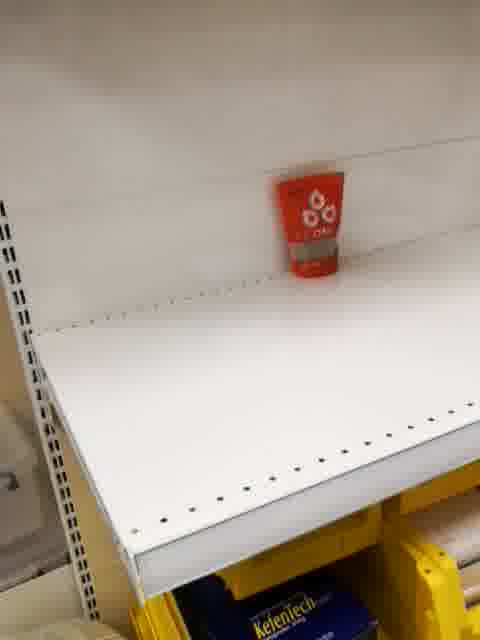whitechia: (272, 166, 345, 282)
